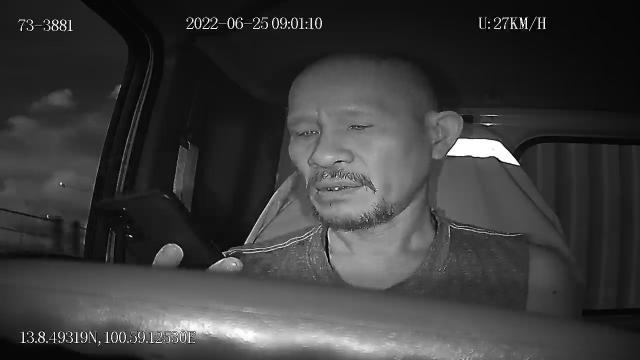PhoneUse: (94, 187, 226, 270)
SafeDriving: (287, 115, 325, 144)
